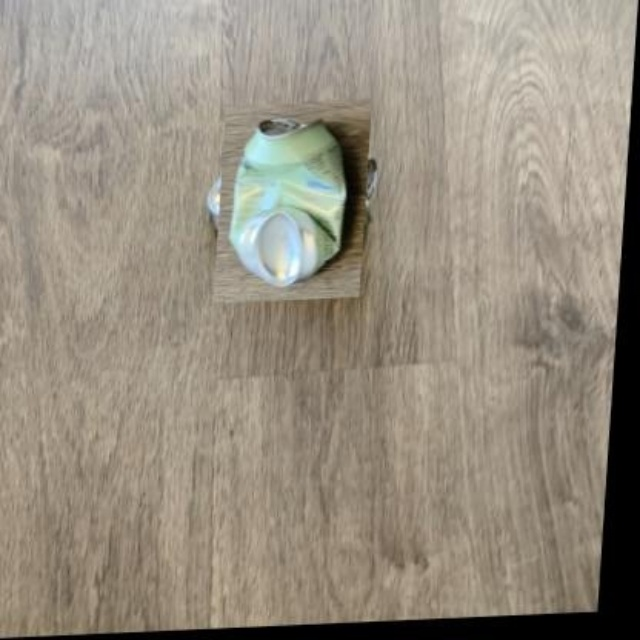trash: (229, 118, 345, 285)
